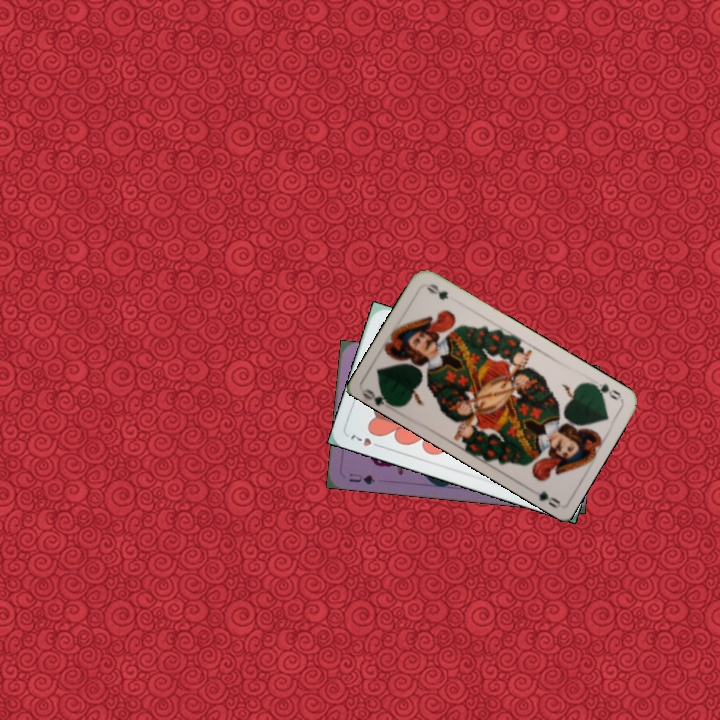GO: (360, 384, 399, 410), (586, 378, 624, 403)
GU: (345, 469, 378, 487)
H7: (346, 429, 385, 450)
